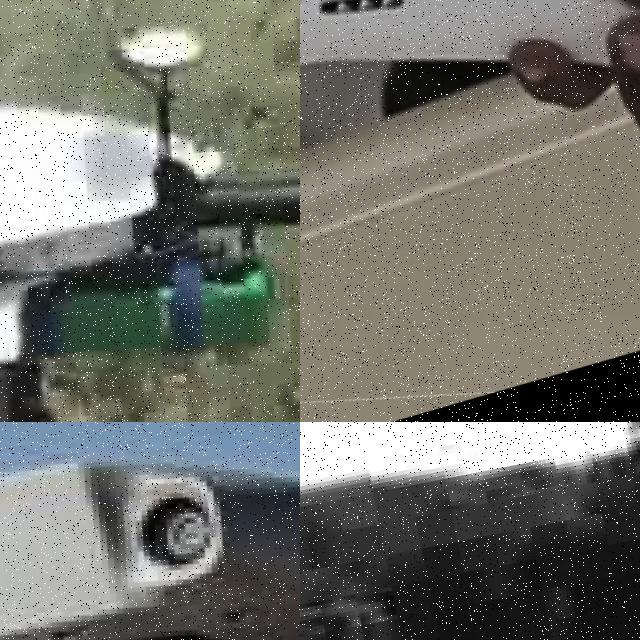drone: (300, 0, 640, 422), (0, 0, 300, 422), (0, 422, 300, 640)
